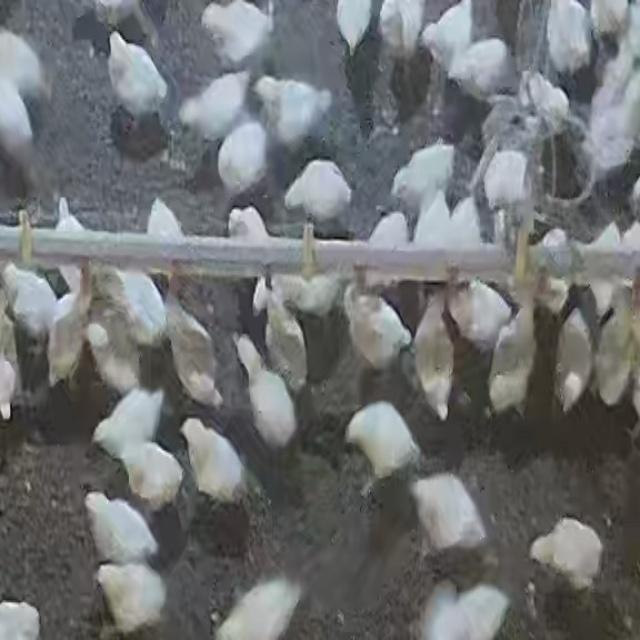chicken: (226, 330, 300, 454), (342, 277, 412, 378), (410, 470, 490, 557), (92, 264, 170, 350), (344, 398, 424, 478), (178, 415, 247, 507), (91, 386, 168, 468), (106, 30, 172, 125), (253, 74, 334, 151), (82, 489, 160, 568), (529, 516, 606, 592), (213, 575, 301, 640), (415, 580, 511, 639), (95, 558, 169, 634), (178, 69, 254, 143), (448, 273, 514, 352), (1, 262, 62, 345), (117, 440, 186, 510), (200, 1, 272, 68), (281, 156, 353, 222), (552, 304, 594, 414), (390, 141, 455, 210), (215, 120, 270, 197), (446, 36, 512, 100), (480, 147, 532, 215)
